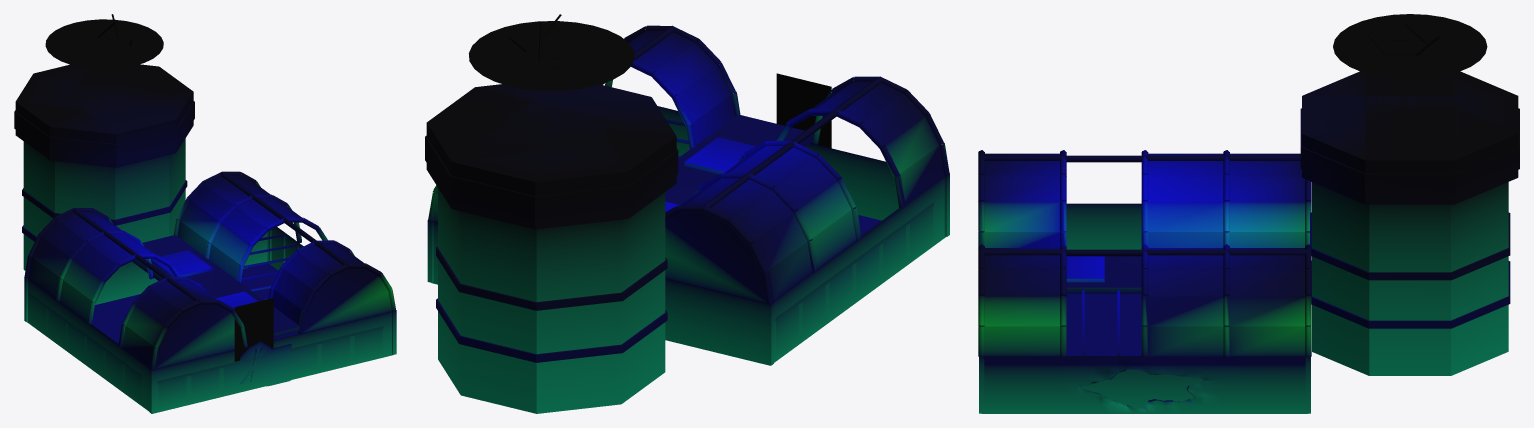
Rendered from l_hq_damaged.glb.
The picture shows the model from 3 angles, left to right: view 1: azimuth 30°, elevation 25°; view 2: azimuth 150°, elevation 25°; view 3: azimuth 270°, elevation 25°; orthographic projection. The views are drawn at different scales.
Visible parts, largest first — view 1: lod0; view 2: lod0; view 3: lod0.
Part boxes in pixels (x1=…): lod0: x1=14, y1=14, x2=396, y2=413; lod0: x1=425, y1=14, x2=949, y2=413; lod0: x1=978, y1=14, x2=1519, y2=413.
Size of what is drawn, in the model's own units: 21.08 by 19.85 by 30.84.
